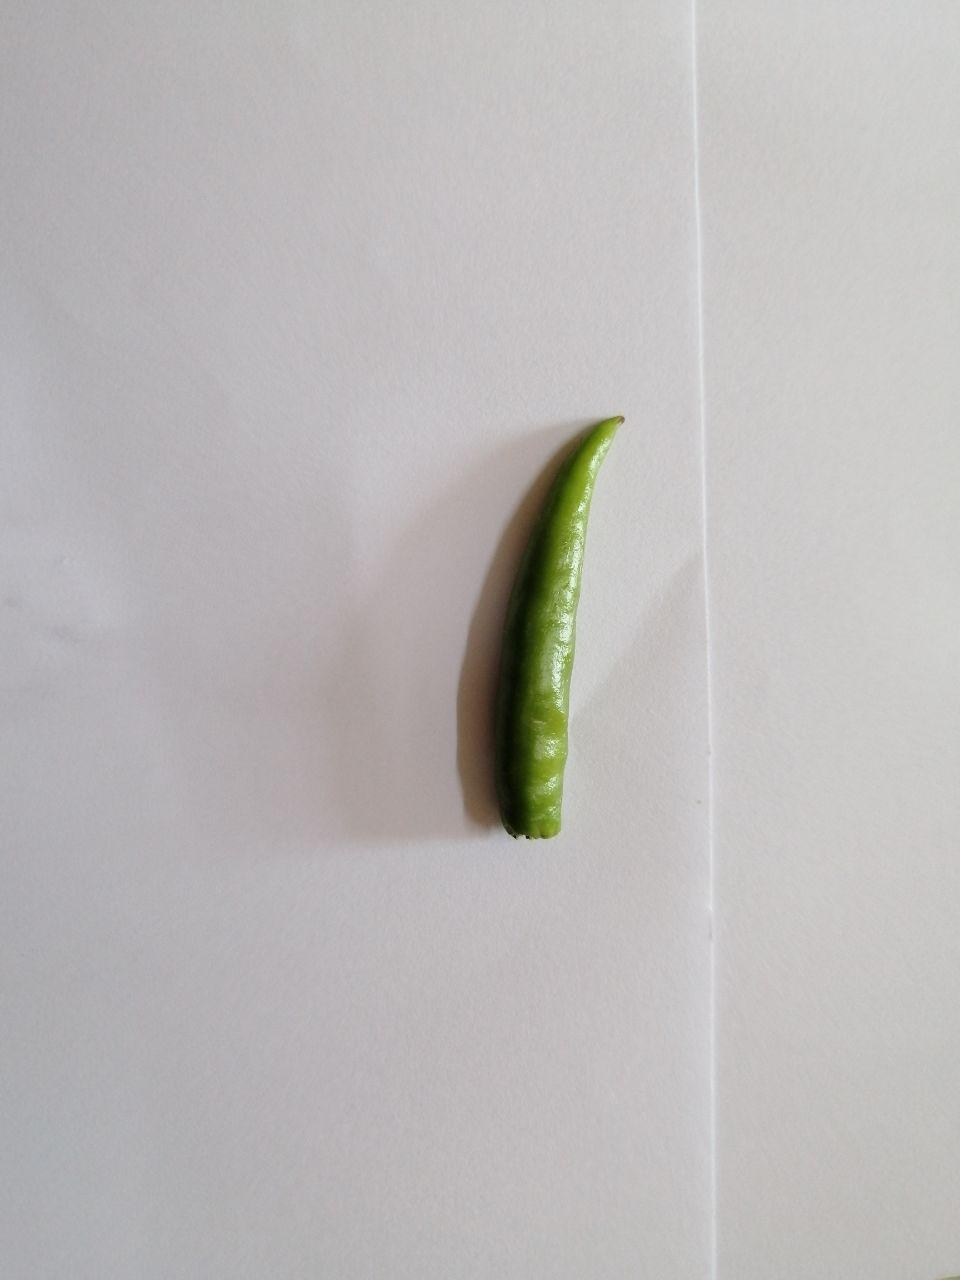lada hijau: (488, 388, 624, 866)
